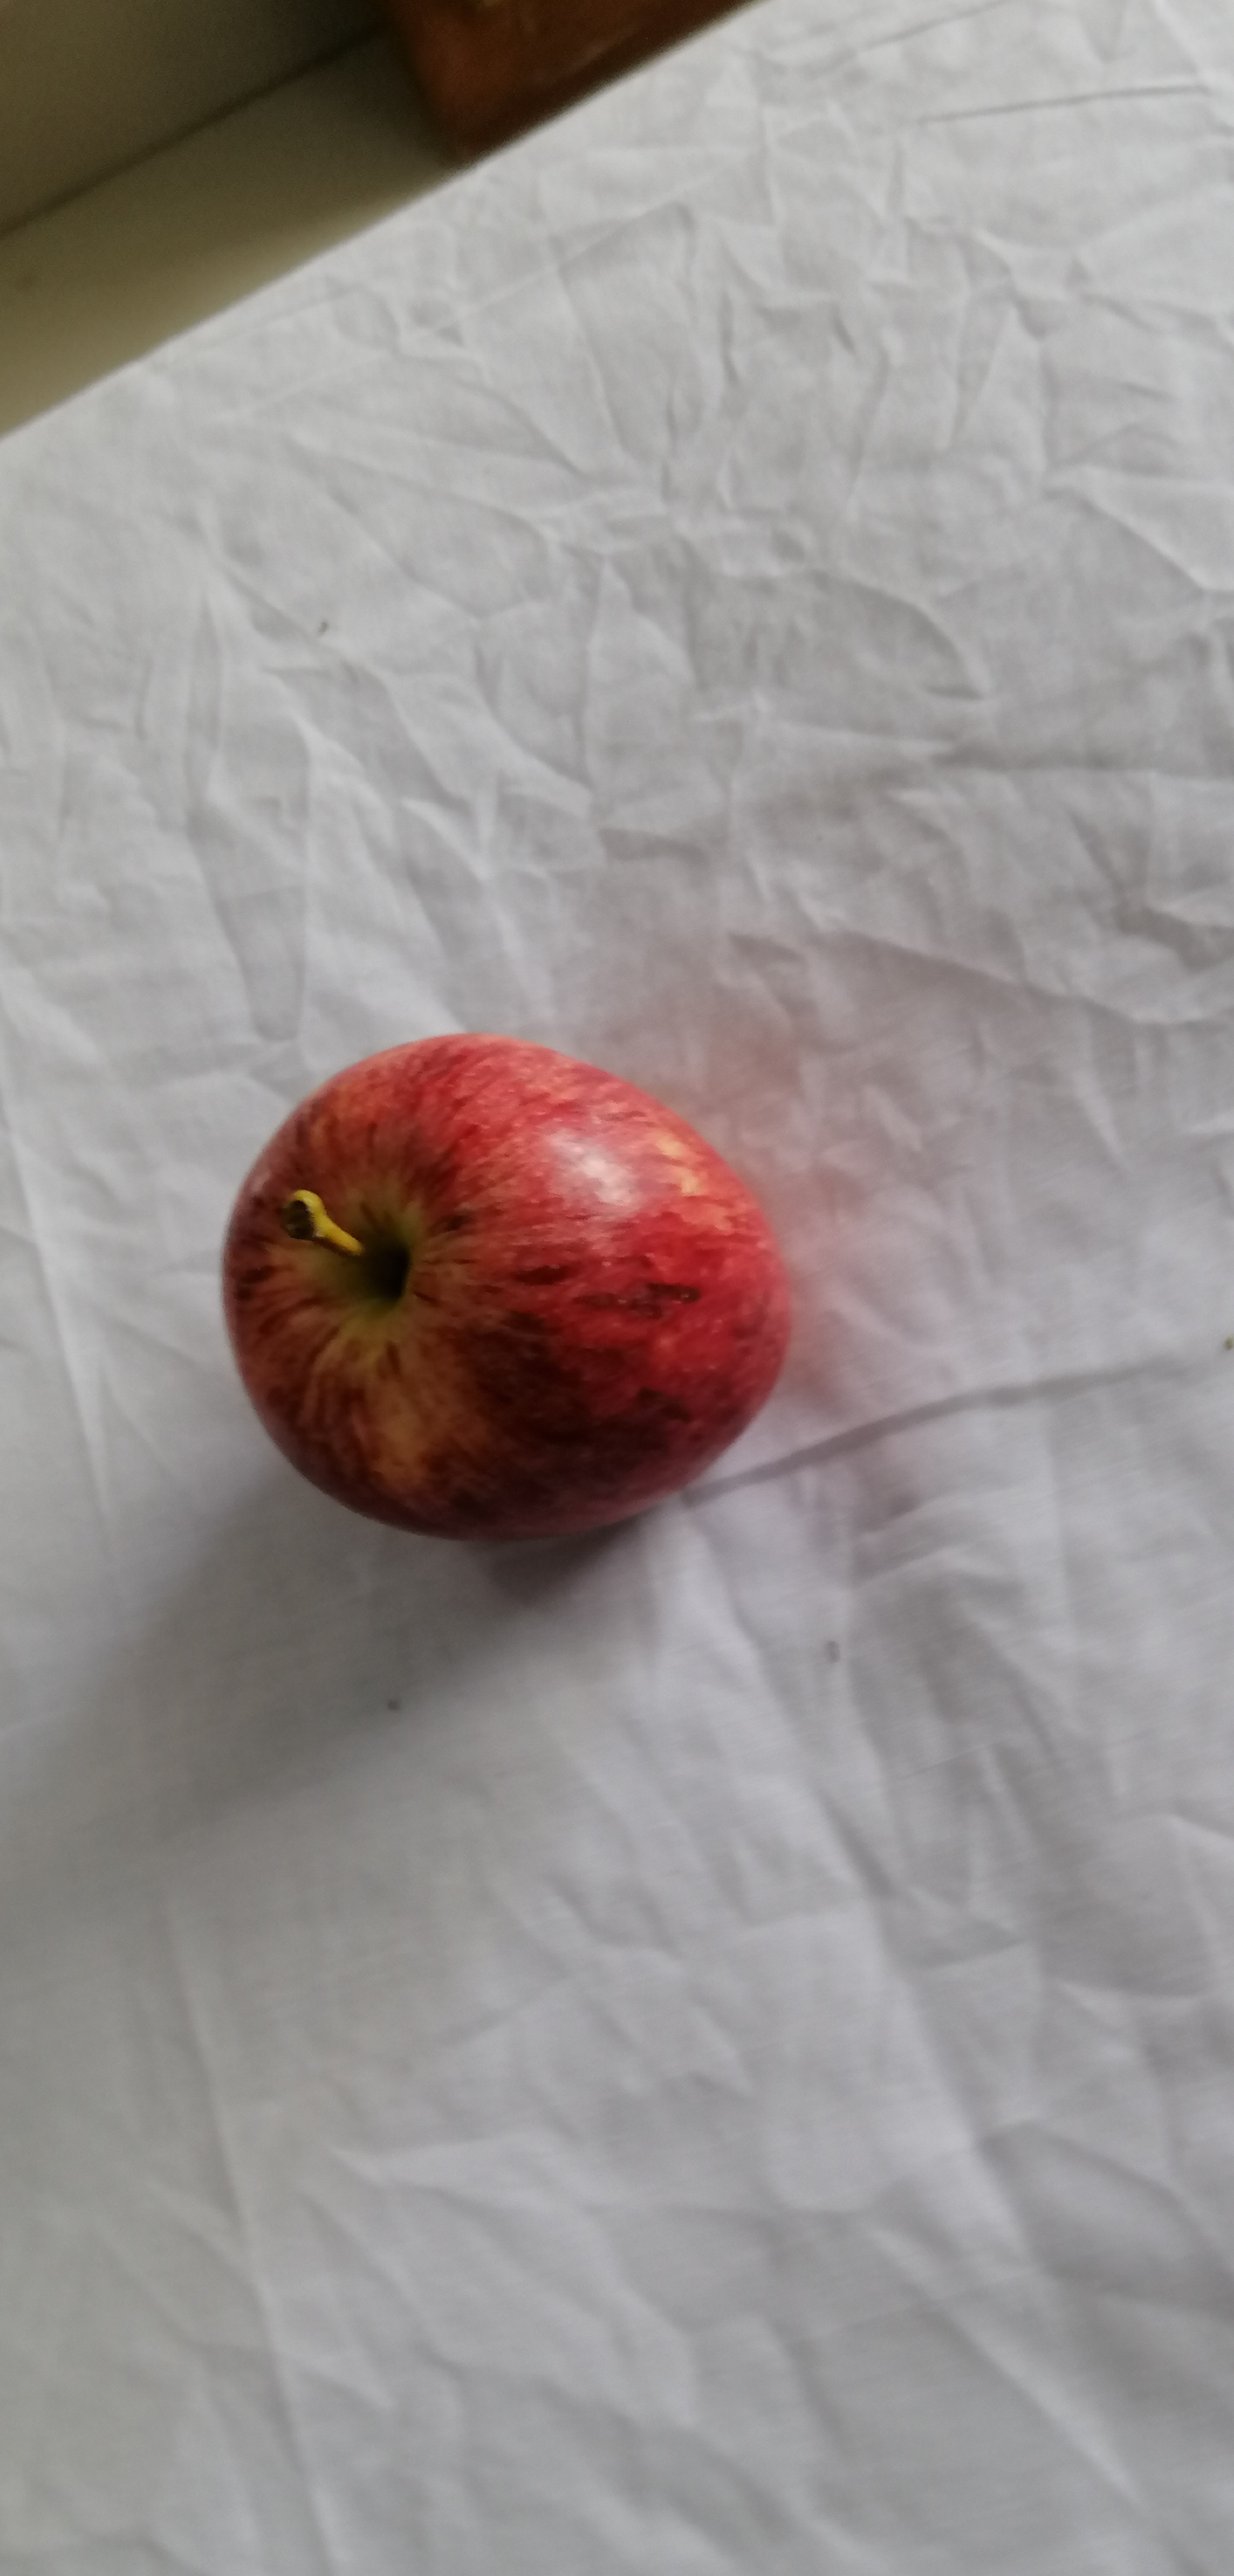apple: (212, 1032, 797, 1566)
